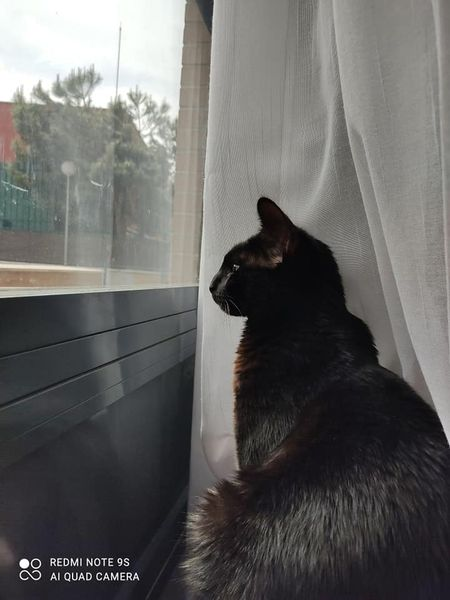cat: (162, 179, 444, 592)
